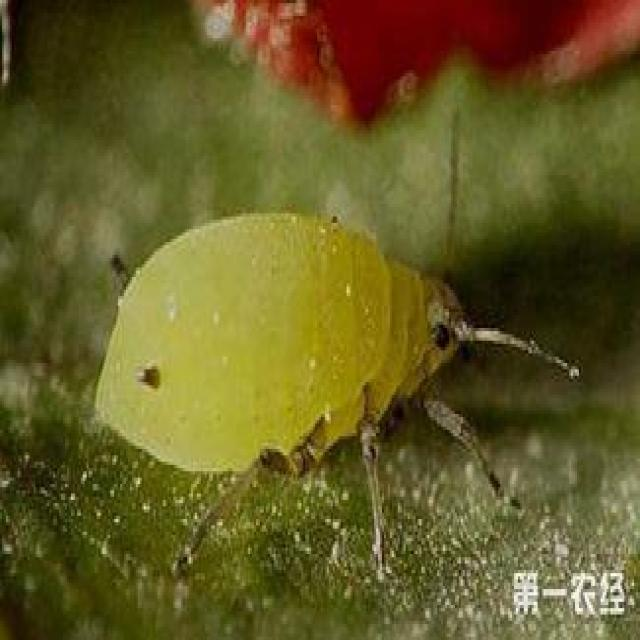Aphids: (60, 160, 580, 568)
